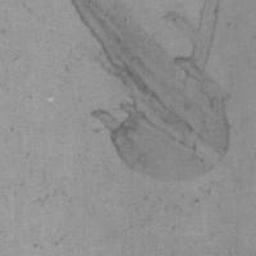Water spot: (72, 0, 234, 182)
